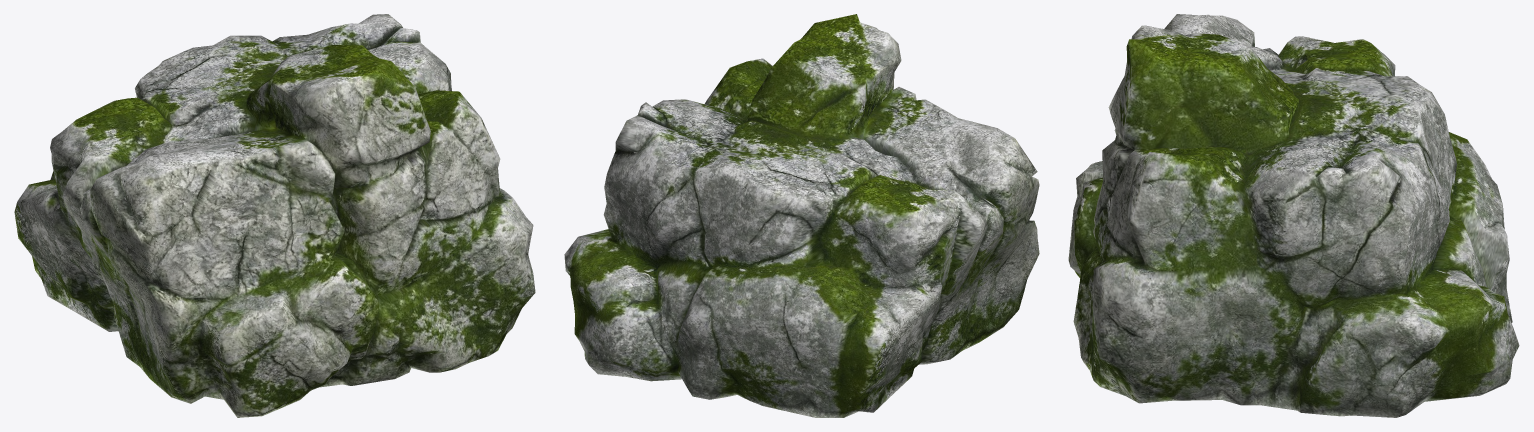
File: kw_rock.glb
The picture shows the model from 3 angles, left to right: view 1: azimuth 30°, elevation 25°; view 2: azimuth 150°, elevation 25°; view 3: azimuth 270°, elevation 25°; orthographic projection. The views are drawn at different scales.
Parts seen in each view (by area): view 1: frame; view 2: frame; view 3: frame.
Part boxes in pixels (left/top/right/bottom): frame: left=14, top=14, right=535, bottom=417; frame: left=564, top=14, right=1039, bottom=417; frame: left=1068, top=14, right=1519, bottom=417.
Size of the model in its own units: 6 by 4.11 by 5.71.
1 material, 1 textured.
